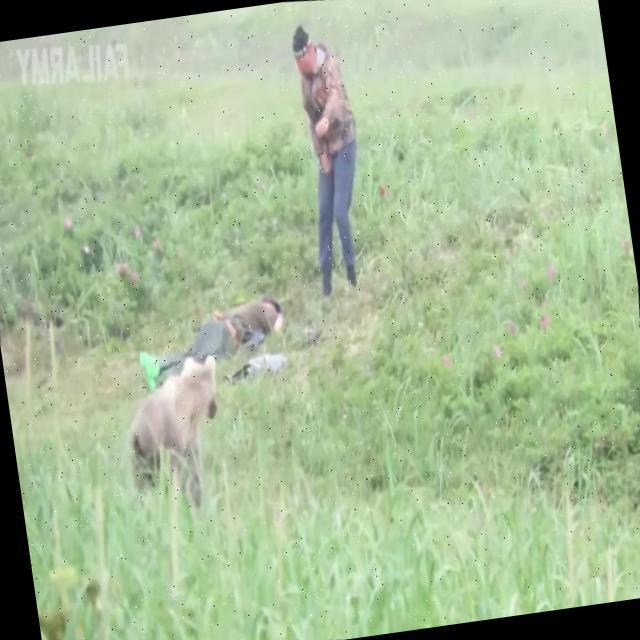person: (268, 19, 390, 308), (130, 282, 294, 397)
